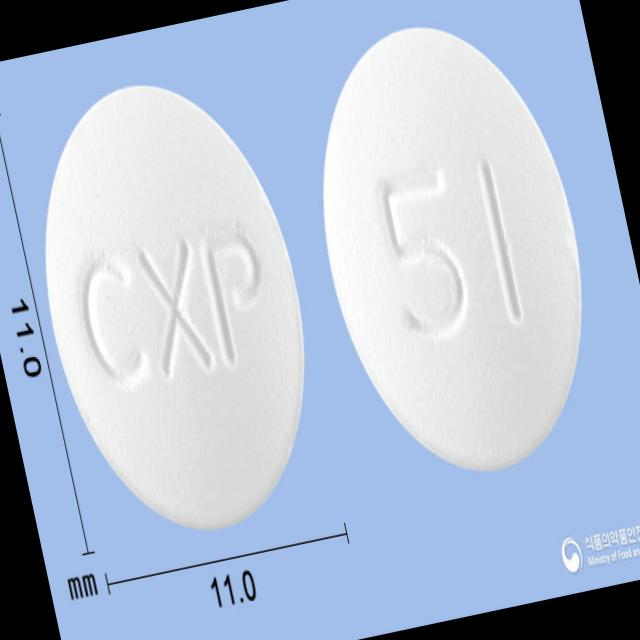Ciprotwo: (2, 51, 348, 562), (282, 0, 623, 504)
